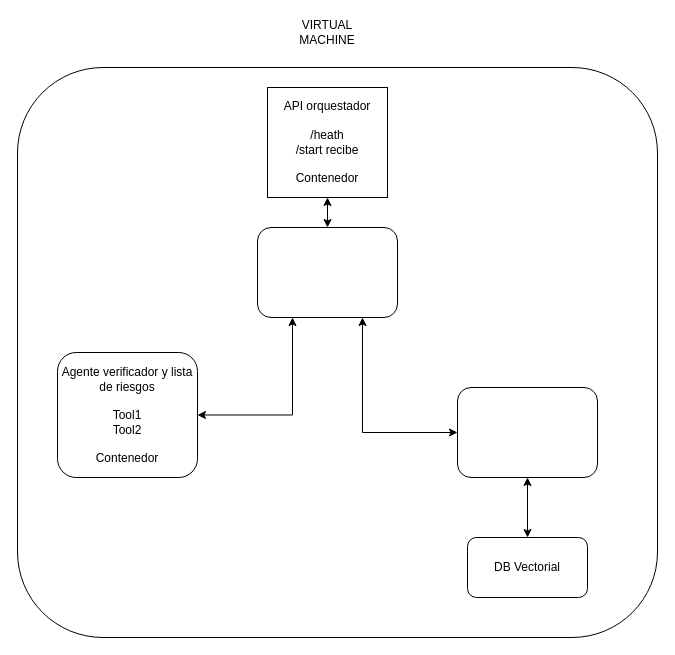
Some shapes in this 675 by 655 pixel diagram are drawn without their labels. Here are the shapes that lost their labels. From the top down, the centre of each, then its label:
At (327,272): "Agente Orquestador Delega a agente especializado y responde al cliente".
At (527,432): "agente Rag: documentación Contenedor".
